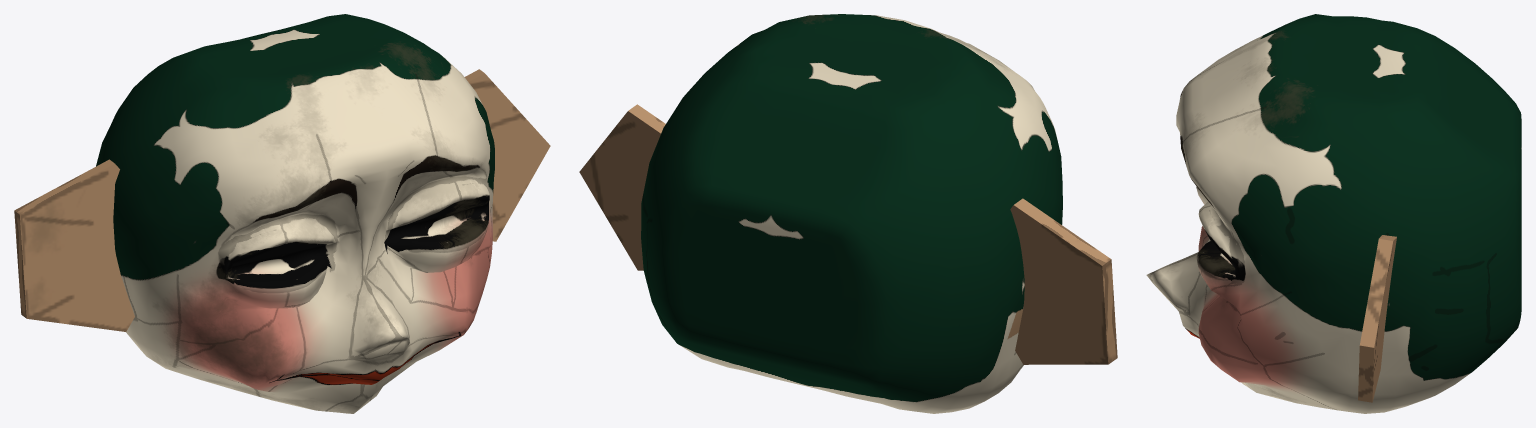
File: stage_2.fbx
3 renders of one model, left to right at view 1: azimuth 30°, elevation 25°; view 2: azimuth 150°, elevation 25°; view 3: azimuth 270°, elevation 25°, orthographic. The views are drawn at different scales.
Visible parts, largest first — view 1: stage_2, Ear, Ear1; view 2: stage_2, Ear, Ear1; view 3: stage_2, Ear1.
Boxes of the visible parts, left/top/right/bottom form: stage_2: left=96, top=14, right=494, bottom=413; Ear: left=14, top=159, right=134, bottom=331; Ear1: left=464, top=69, right=550, bottom=241; stage_2: left=641, top=14, right=1062, bottom=413; Ear: left=1010, top=198, right=1117, bottom=364; Ear1: left=579, top=104, right=665, bottom=270; stage_2: left=1146, top=14, right=1521, bottom=413; Ear1: left=1358, top=235, right=1396, bottom=402.
Size of the model in its own units: 65.91 by 40.95 by 41.34.
